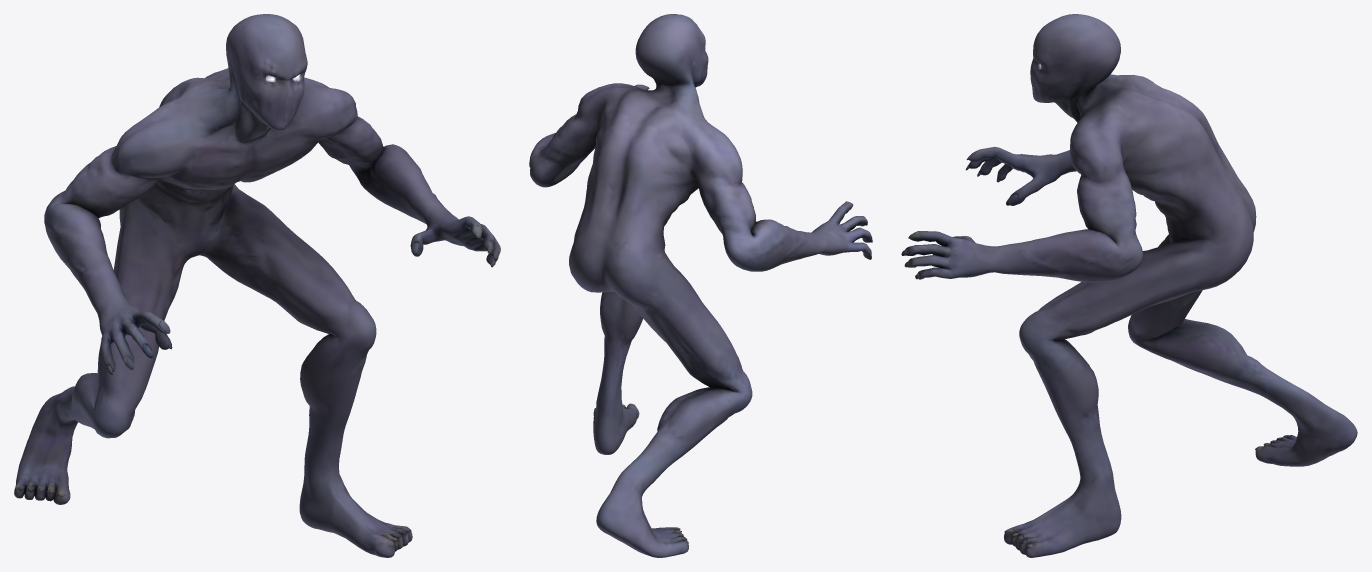
Rendered from MZ4250 - Doppelganger_3_2025.glb.
3 renders of one model, left to right at view 1: azimuth 30°, elevation 25°; view 2: azimuth 150°, elevation 25°; view 3: azimuth 270°, elevation 25°, orthographic. The views are drawn at different scales.
Visible parts, largest first — view 1: Body.002; view 2: Body.002; view 3: Body.002.
Boxes of the visible parts, <box> form: Body.002: <box>14,14,500,557</box>; Body.002: <box>529,14,872,557</box>; Body.002: <box>901,14,1357,557</box>.
Size of the model in its own units: 48.31 by 69.36 by 58.42.
1 material, 1 textured.
